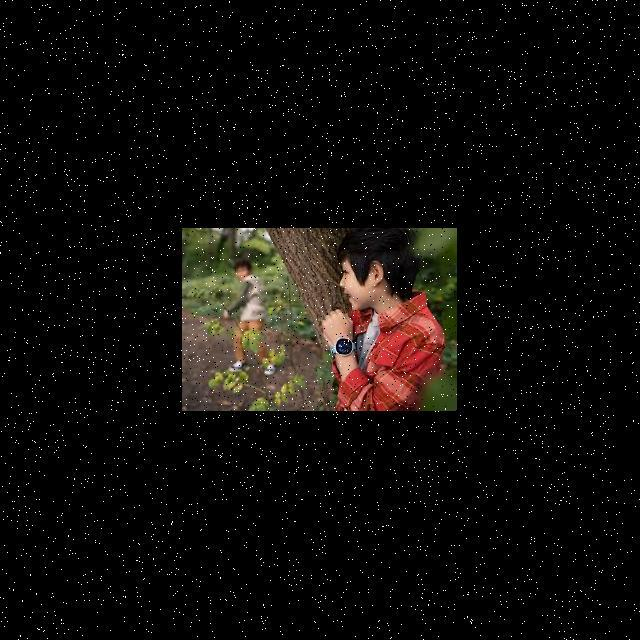watch: (325, 333, 360, 357)
